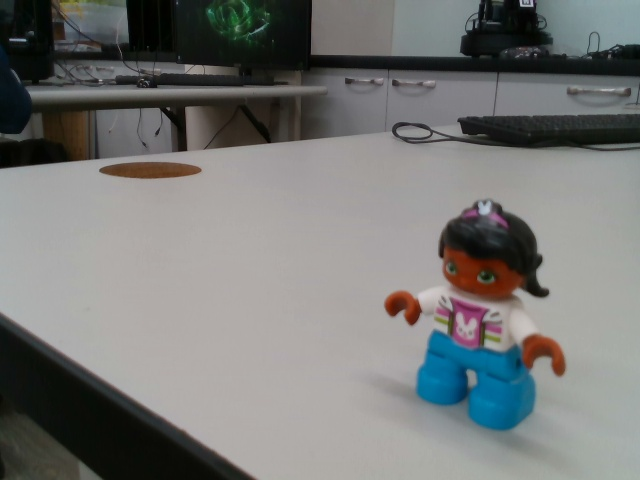people: (379, 195, 570, 433)
